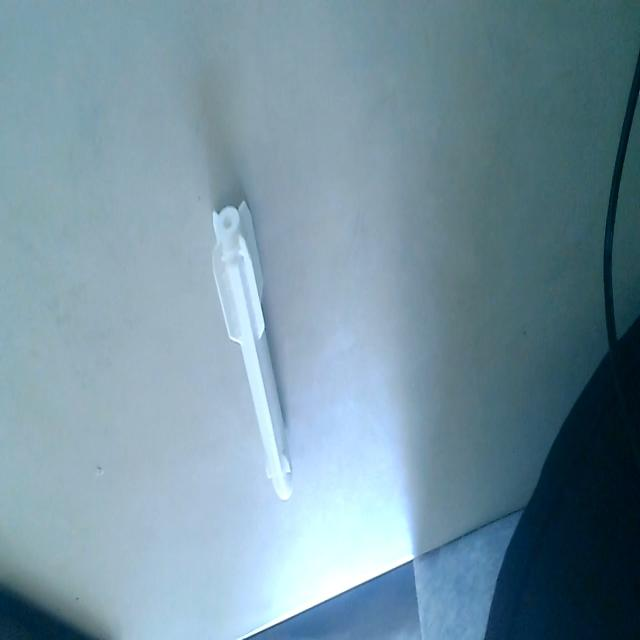Rocket: (208, 197, 295, 508)
